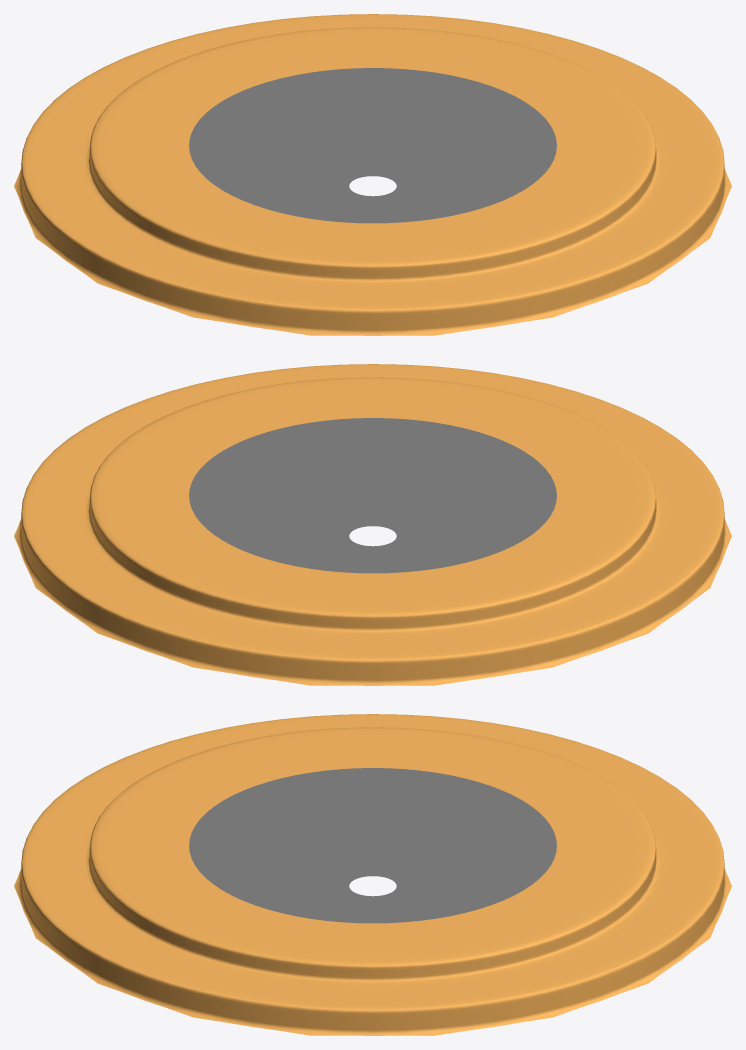
The model's file is Plasma Interface 2.fbx.
The picture shows the model from 3 angles, top to bottom: view 1: azimuth 30°, elevation 25°; view 2: azimuth 150°, elevation 25°; view 3: azimuth 270°, elevation 25°; orthographic projection.
Parts seen in each view (by area): view 1: Plasma Interface (Double); view 2: Plasma Interface (Double); view 3: Plasma Interface (Double).
Part boxes in pixels (box(x1,y1,x2,y2)): Plasma Interface (Double): box(14, 14, 731, 335); Plasma Interface (Double): box(14, 364, 731, 685); Plasma Interface (Double): box(14, 714, 731, 1035).
Size of the model in its own units: 101 by 6.37 by 102.
